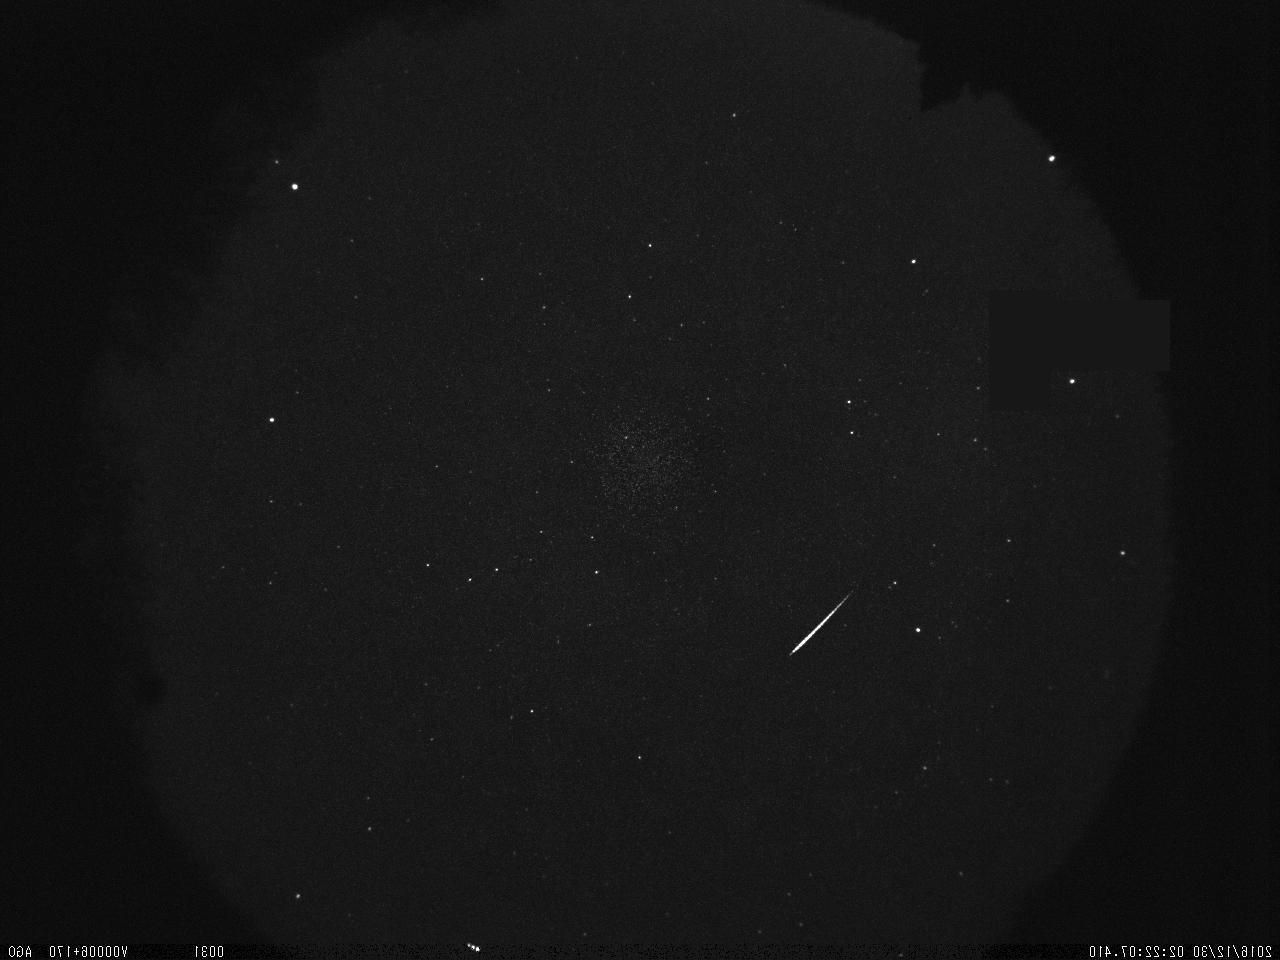meteor: (769, 577, 887, 669)
